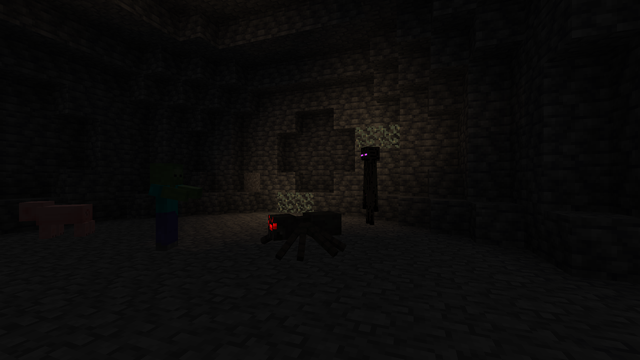araignees: (257, 206, 336, 260)
cochons: (35, 202, 93, 239)
endermens: (360, 143, 379, 225)
zombies: (146, 165, 187, 252)
